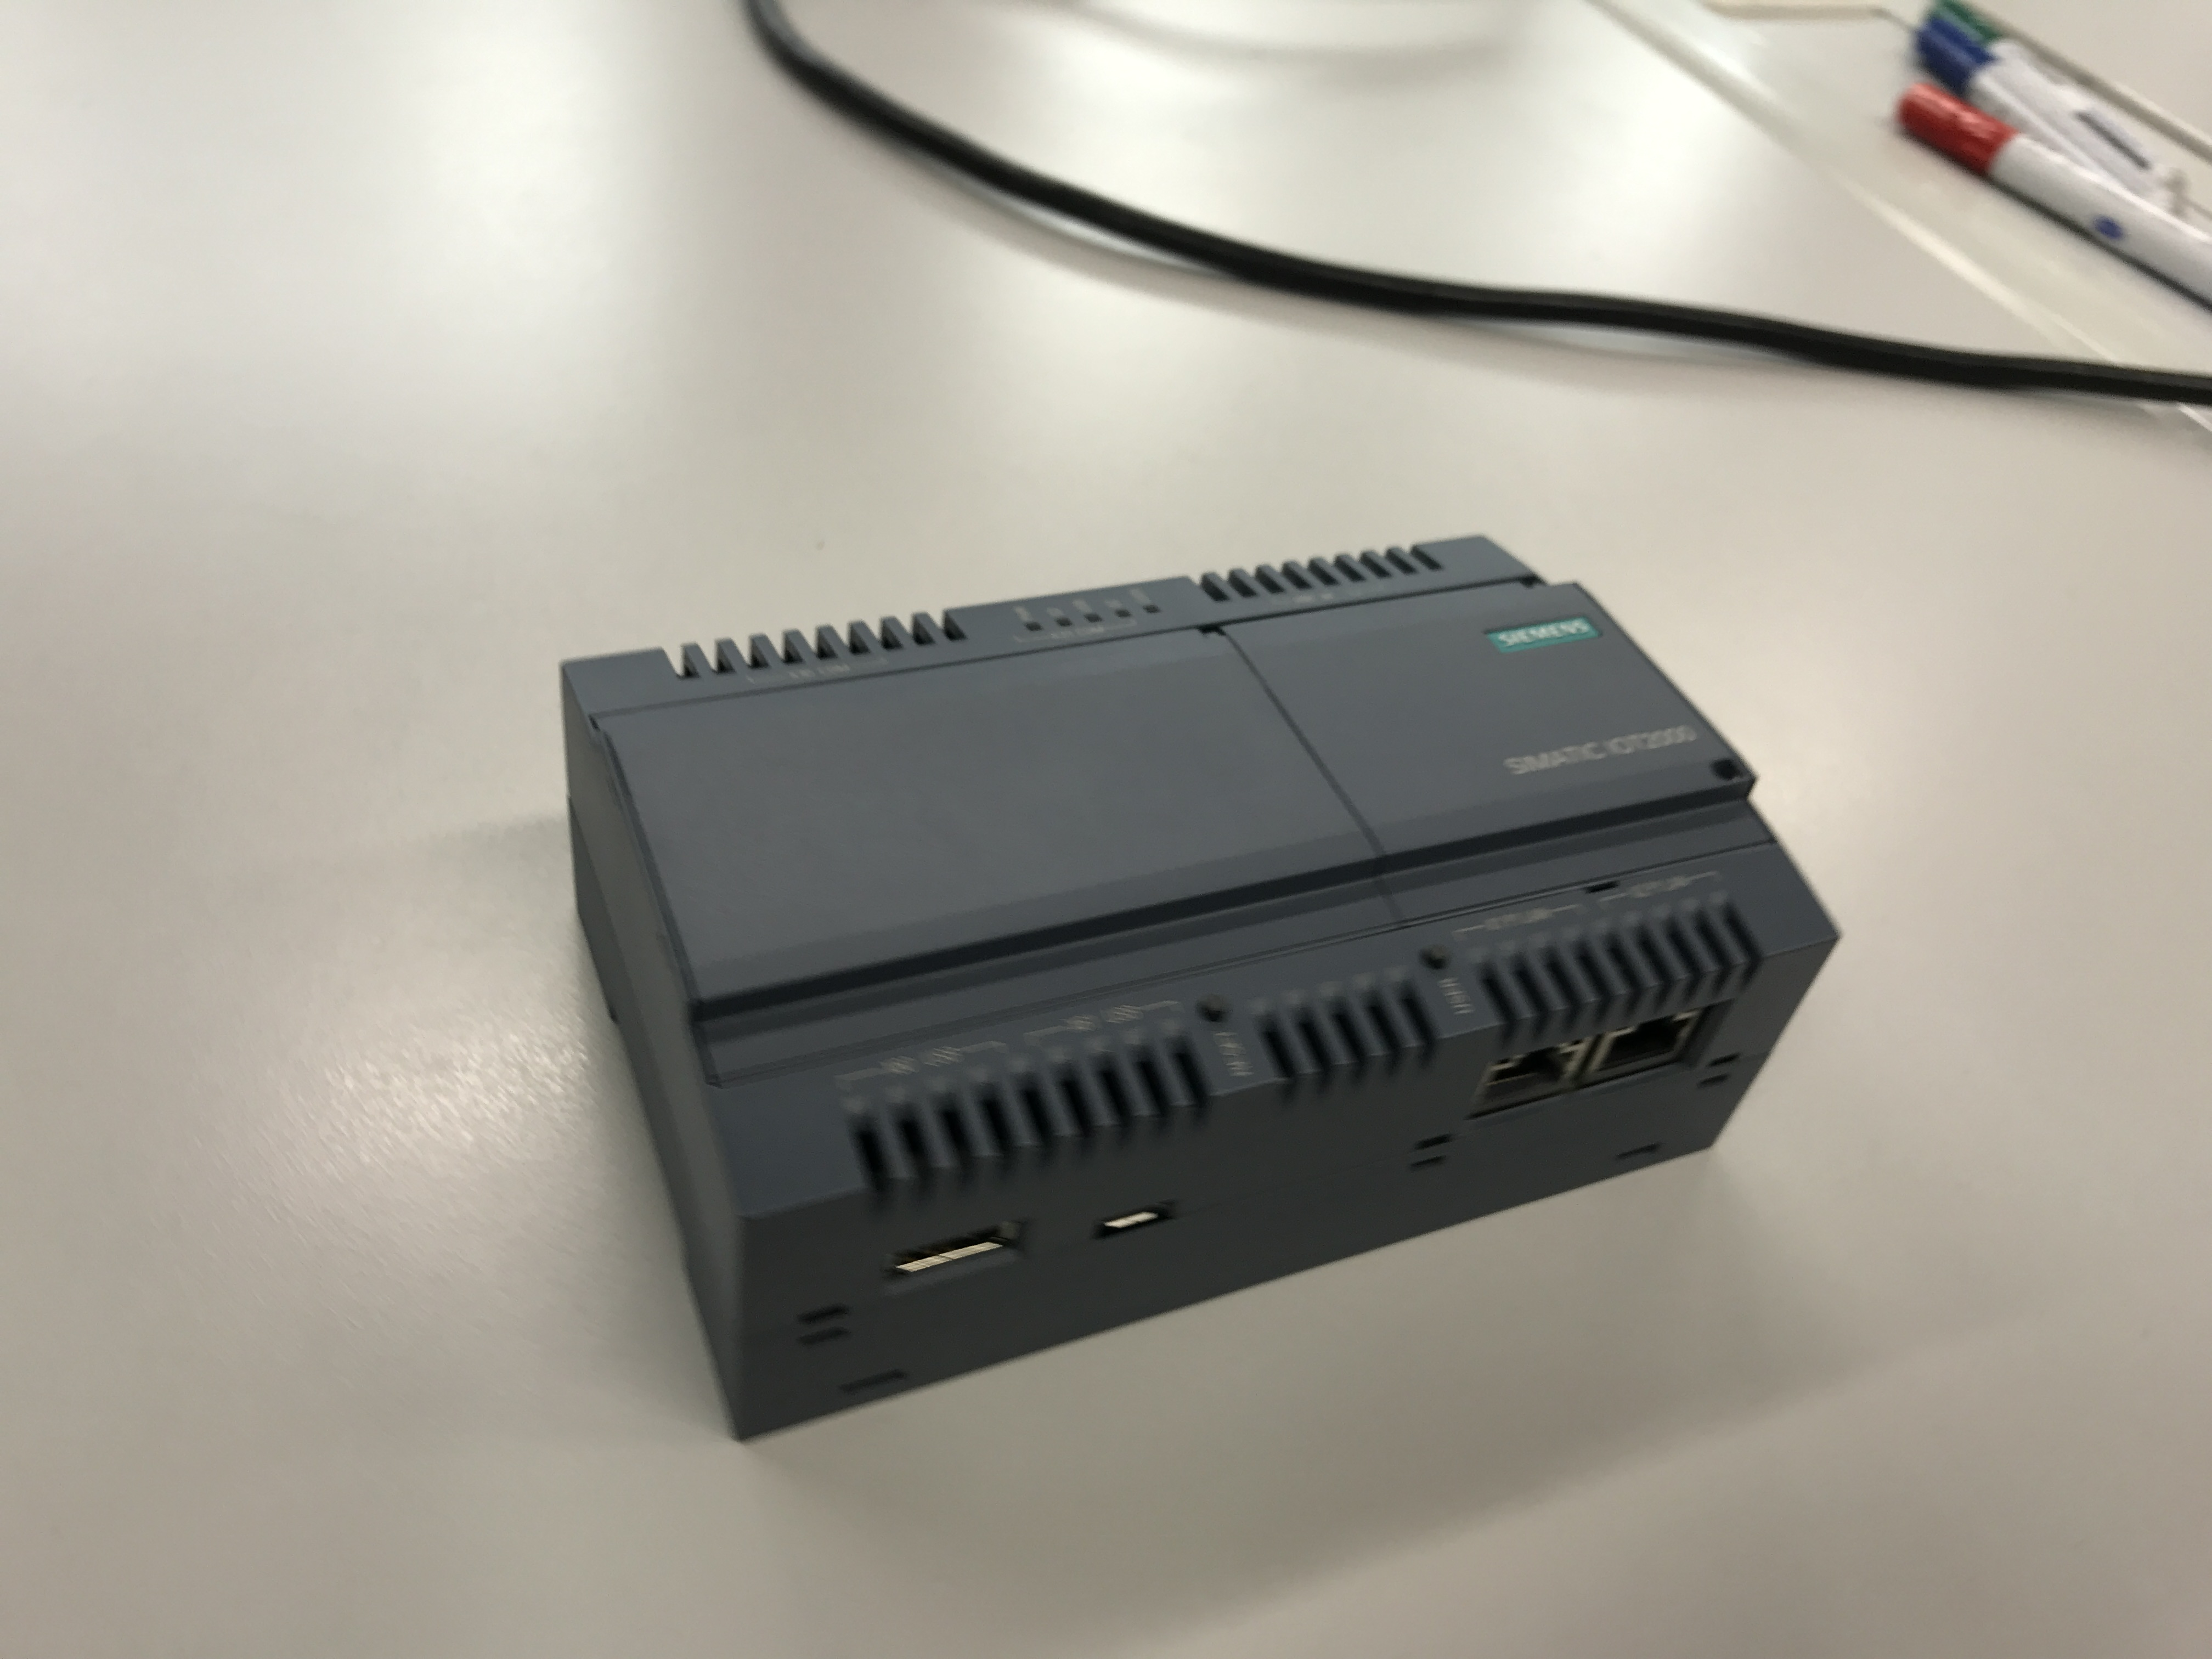device: (559, 532, 1843, 1445)
